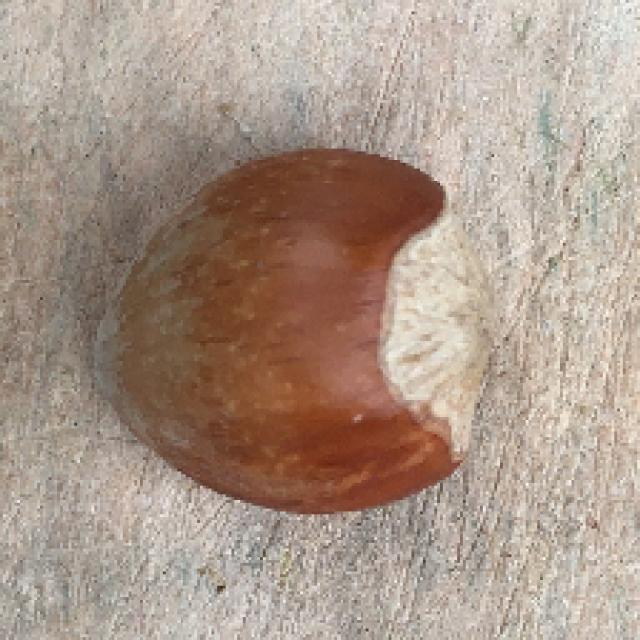qualityHazelnut: (103, 141, 499, 516)
